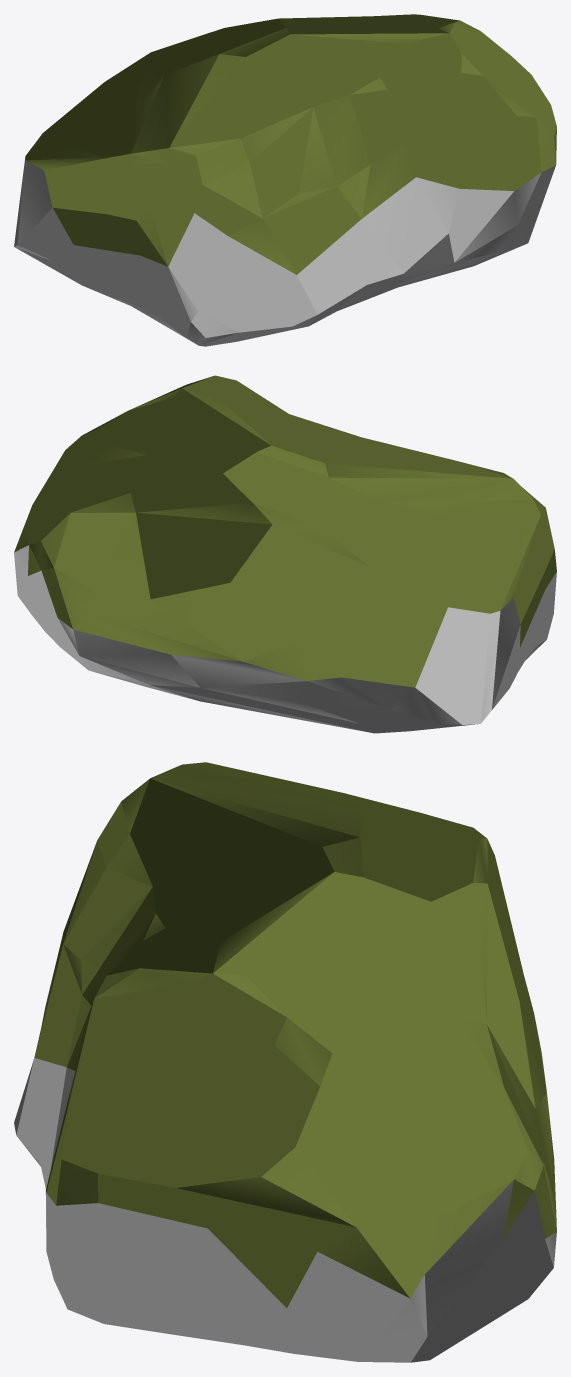
File: Rock_3_mossy.glb
The picture shows the model from 3 angles, top to bottom: view 1: azimuth 30°, elevation 25°; view 2: azimuth 150°, elevation 25°; view 3: azimuth 270°, elevation 25°; orthographic projection. The views are drawn at different scales.
Visible parts, largest first — view 1: Rock_3_mossy; view 2: Rock_3_mossy; view 3: Rock_3_mossy.
Boxes of the visible parts, x1,y1,x2,y2 form: Rock_3_mossy: [14, 14, 556, 346]; Rock_3_mossy: [14, 375, 556, 733]; Rock_3_mossy: [14, 762, 556, 1362].
Bounding box in the file's own units: 0.4993 × 0.2338 × 0.3055.
1 material, 1 textured.
